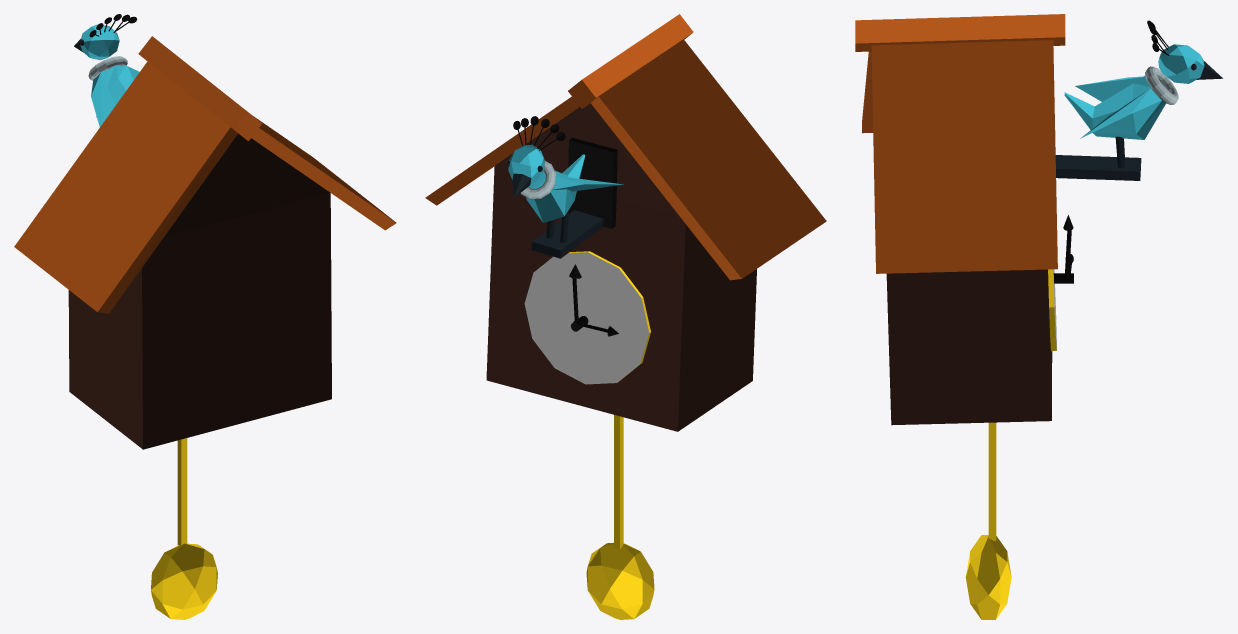
3 views of the same model, side by side, from view 1: azimuth 30°, elevation 25°; view 2: azimuth 150°, elevation 25°; view 3: azimuth 270°, elevation 25° (orthographic). The views are drawn at different scales.
Size of the model in its own units: 0.5499 by 0.9574 by 0.5266.
